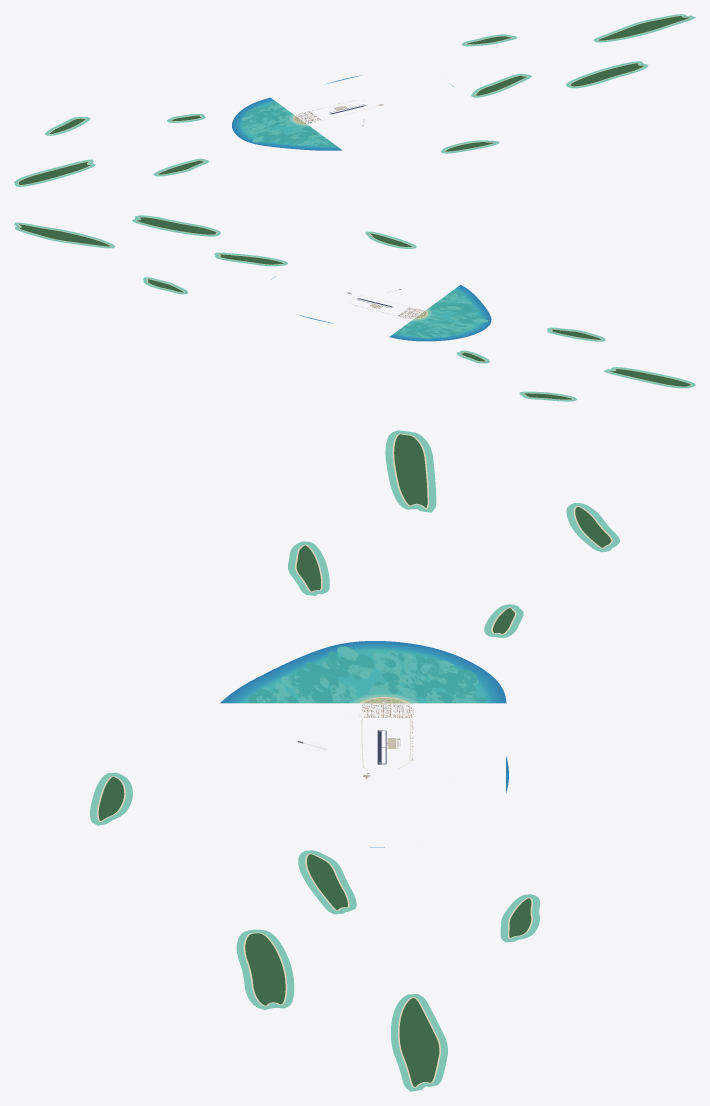
File: land.glb
The picture shows the model from 3 angles, top to bottom: view 1: azimuth 30°, elevation 25°; view 2: azimuth 150°, elevation 25°; view 3: azimuth 270°, elevation 25°; orthographic projection. The views are drawn at different scales.
Visible parts, largest first — view 1: decal-keys-mangrove, decal-keys-halo, decal-beds, decal-keys-sand, decal-flats-edge, decal-flats; view 2: decal-keys-mangrove, decal-keys-halo, decal-beds, decal-keys-sand, decal-flats-edge, decal-flats; view 3: decal-keys-mangrove, decal-keys-halo, decal-beds, decal-flats-edge, decal-keys-sand, decal-flats.
Boxes of the visible parts, left/top/right/bottom form: decal-keys-mangrove: left=18, top=16, right=689, bottom=184; decal-keys-halo: left=14, top=14, right=695, bottom=186; decal-beds: left=242, top=101, right=335, bottom=146; decal-keys-sand: left=17, top=15, right=690, bottom=185; decal-flats-edge: left=232, top=75, right=453, bottom=150; decal-flats: left=243, top=102, right=336, bottom=145; decal-keys-mangrove: left=19, top=217, right=690, bottom=399; decal-keys-halo: left=14, top=215, right=695, bottom=401; decal-beds: left=395, top=290, right=488, bottom=338; decal-keys-sand: left=18, top=217, right=691, bottom=399; decal-flats-edge: left=271, top=276, right=491, bottom=341; decal-flats: left=395, top=289, right=480, bottom=336; decal-keys-mangrove: left=98, top=434, right=611, bottom=1086; decal-keys-halo: left=90, top=430, right=619, bottom=1091; decal-beds: left=248, top=646, right=486, bottom=703; decal-flats-edge: left=220, top=641, right=508, bottom=847; decal-keys-sand: left=97, top=433, right=612, bottom=1087; decal-flats: left=244, top=650, right=483, bottom=703.
Size of the model in its own units: 57498 by 74 by 19473.
